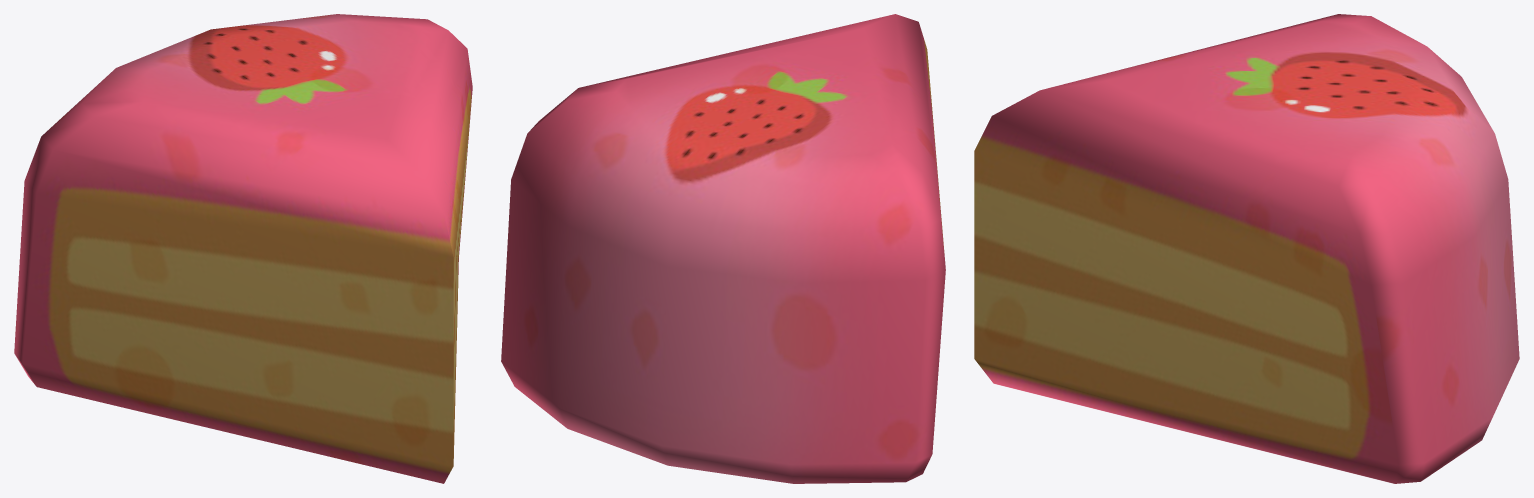
The model's file is cake_strawberry.fbx.
3 renders of one model, left to right at view 1: azimuth 30°, elevation 25°; view 2: azimuth 150°, elevation 25°; view 3: azimuth 270°, elevation 25°, orthographic. The views are drawn at different scales.
Parts seen in each view (by area): view 1: cake_strawberry; view 2: cake_strawberry; view 3: cake_strawberry.
Boxes of the visible parts, x1,y1,x2,y2 form: cake_strawberry: (14,14,472,483); cake_strawberry: (501,14,945,483); cake_strawberry: (974,14,1519,483).
Bounding box in the file's own units: 6.75 × 4.64 × 7.32.
Materials: 1 (1 with a texture image).
